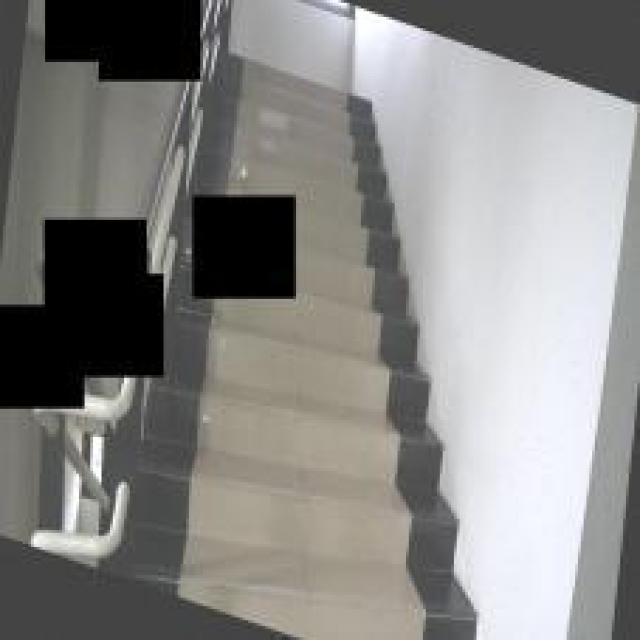upstair: (182, 306, 433, 638)
